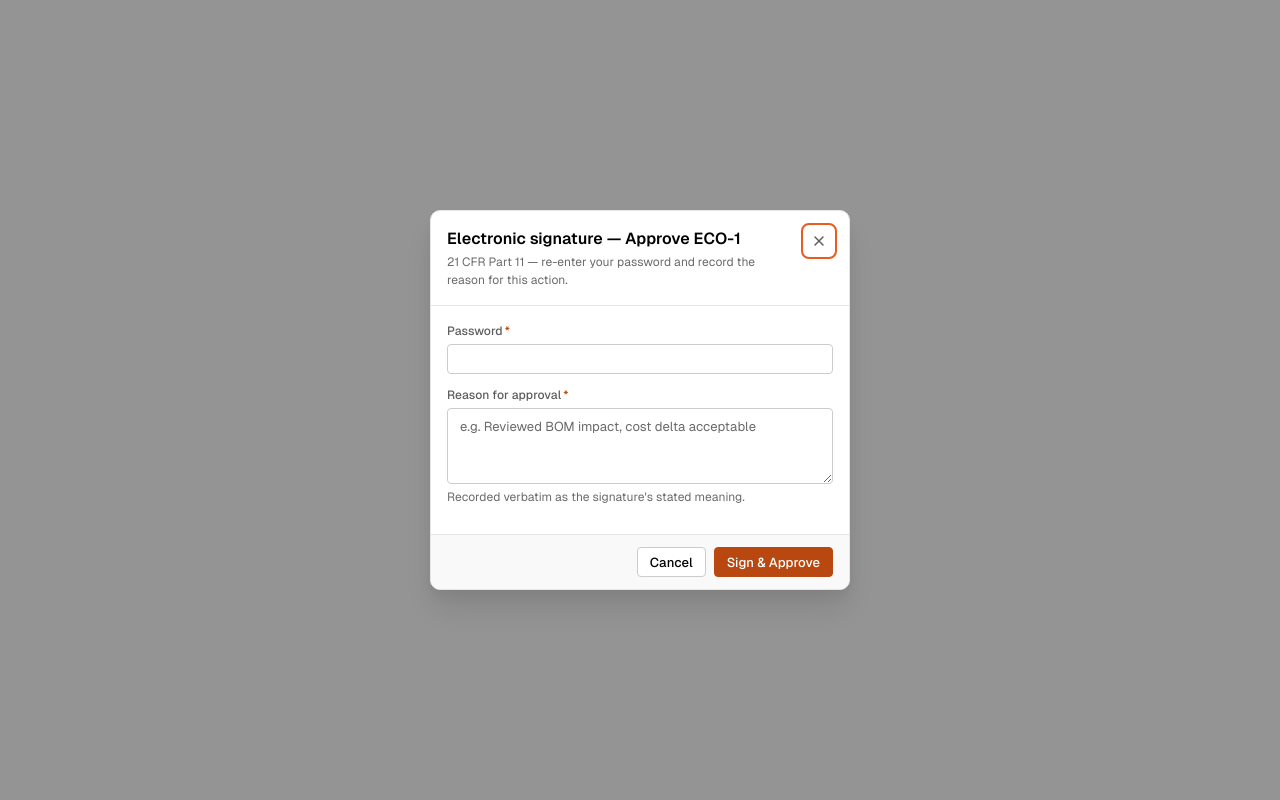
Test: ESignDialog › surfaces a failed signature honestly and does not report success or close
Type "secret" into the password field labelled "Password*".
click(640, 359); type("secret")  # box [447,344,833,374]
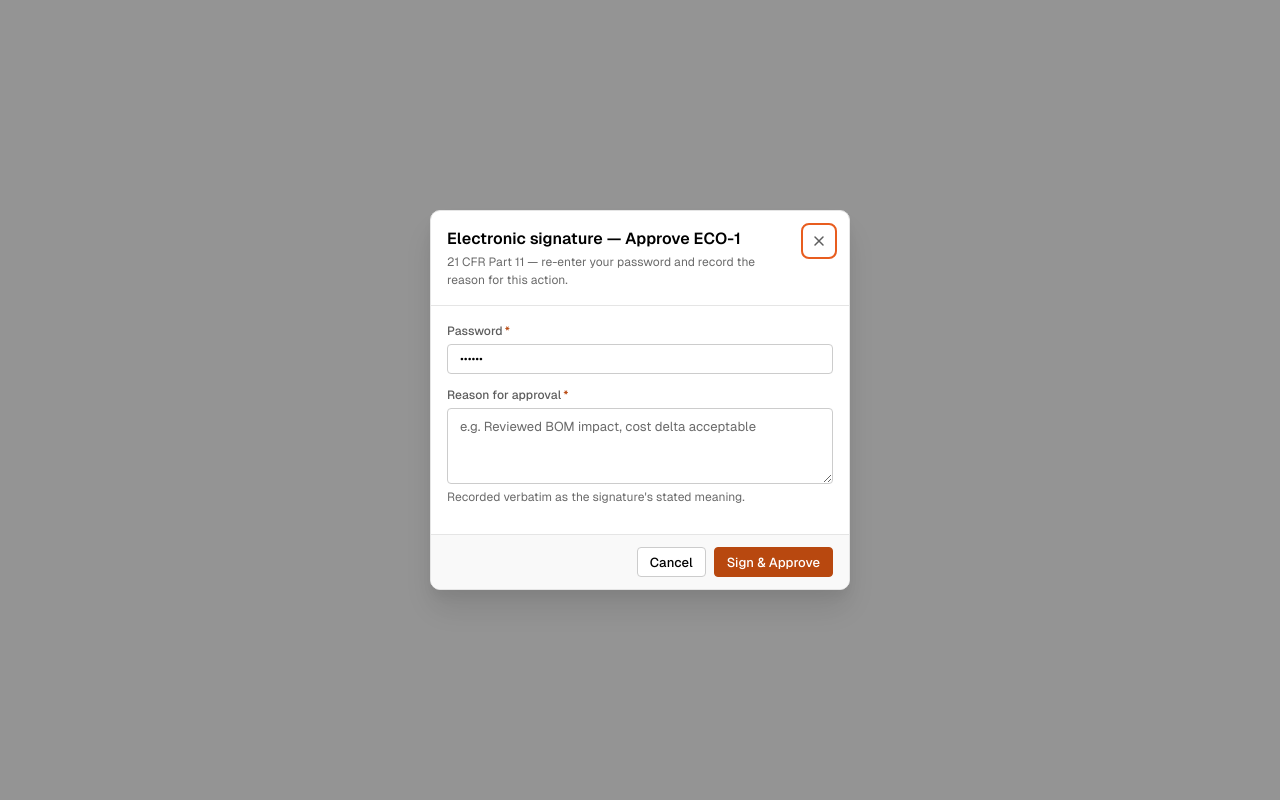
Type "Reviewed and acceptable" into the text box labelled "Reason for approval*".
click(640, 446); type("Reviewed and acceptable")  # box [447,408,833,484]
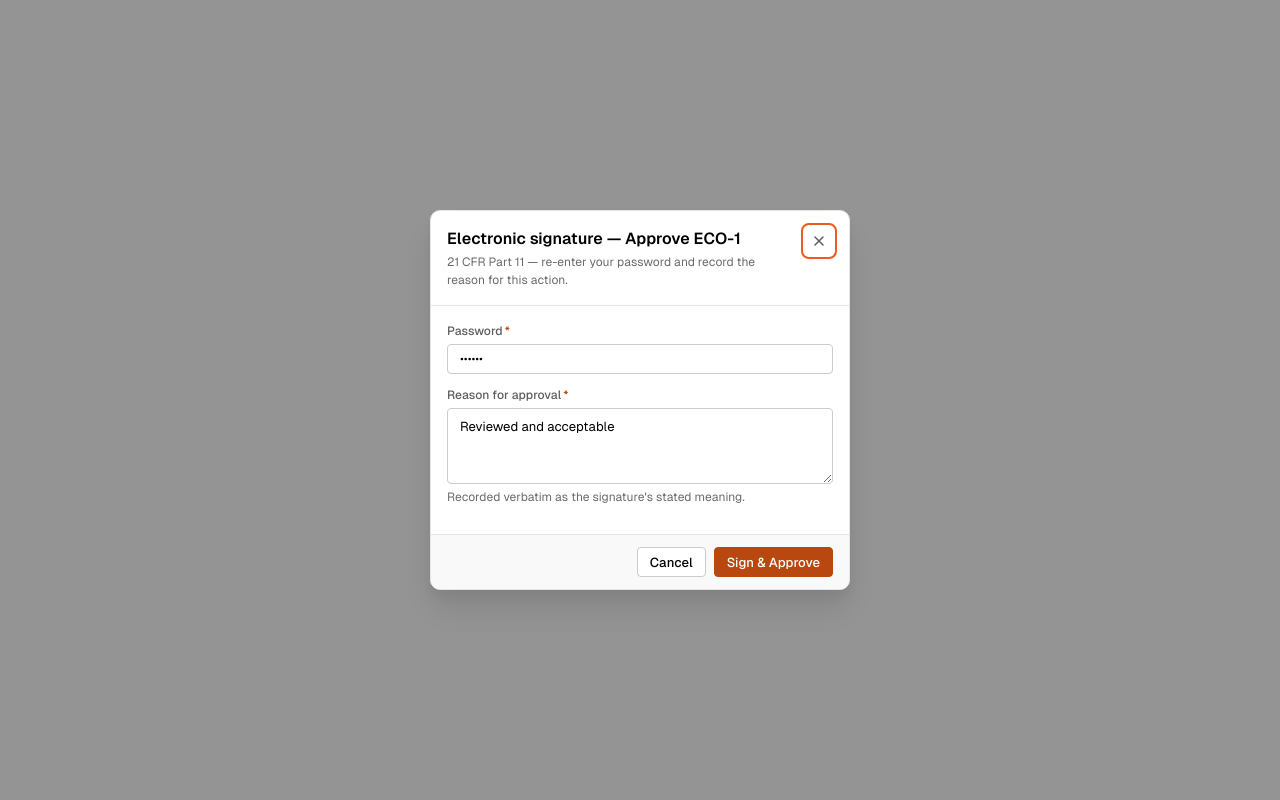
Click the button "Sign & Approve".
click(773, 562)  # box [714,547,833,577]
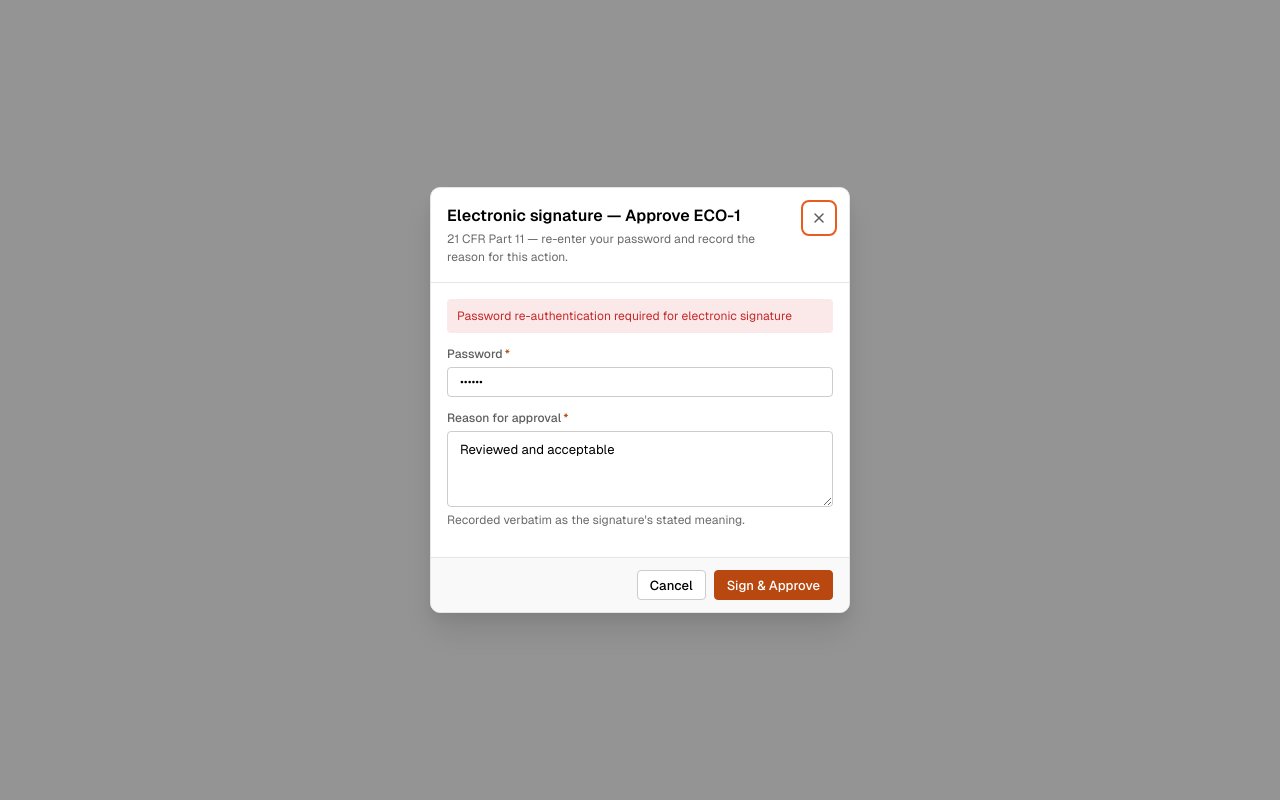
Expected: the message shows "Password re-authentication required", [457,309,792,323]
